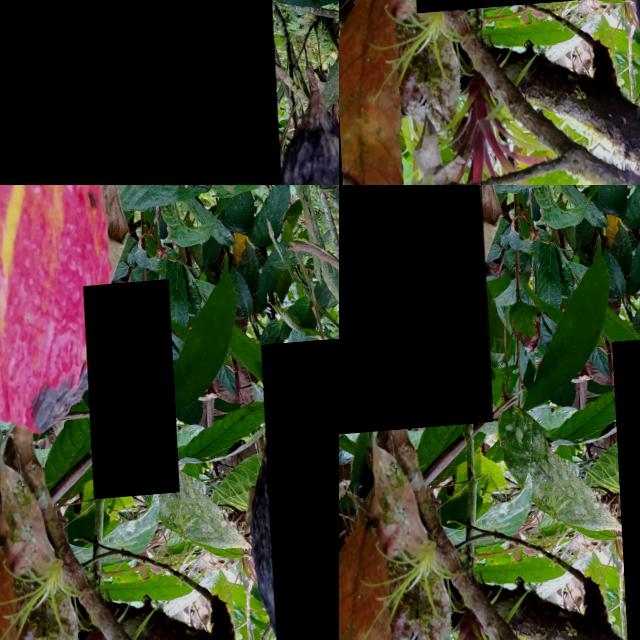Fitoftora: (339, 185, 489, 434), (0, 0, 83, 185), (609, 341, 640, 640)
Sana: (47, 0, 286, 185), (259, 341, 339, 640), (82, 283, 175, 502), (28, 379, 62, 432), (58, 301, 71, 347), (45, 301, 57, 321), (54, 290, 63, 316)
